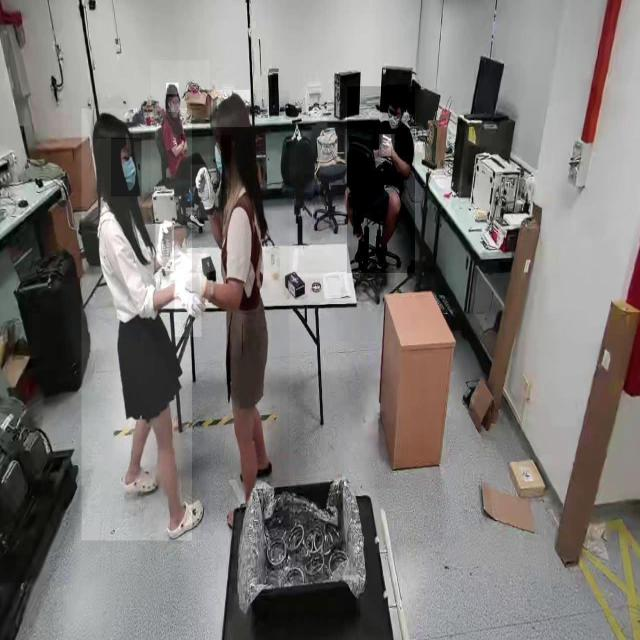face_mask: (111, 138, 141, 196), (213, 135, 231, 189), (386, 102, 406, 134)
face_nomask: (168, 97, 180, 113)
hand_glove: (174, 273, 202, 337), (181, 253, 209, 304), (190, 164, 214, 218), (156, 224, 174, 271)
hand_noglove: (381, 134, 395, 158), (379, 134, 391, 158), (171, 134, 178, 148), (180, 134, 186, 148)
head_nohelmet: (212, 90, 250, 128), (91, 108, 133, 140), (386, 85, 409, 103), (166, 83, 179, 95)
person: (181, 90, 290, 532), (81, 109, 192, 542), (347, 86, 415, 274), (151, 61, 210, 220)
